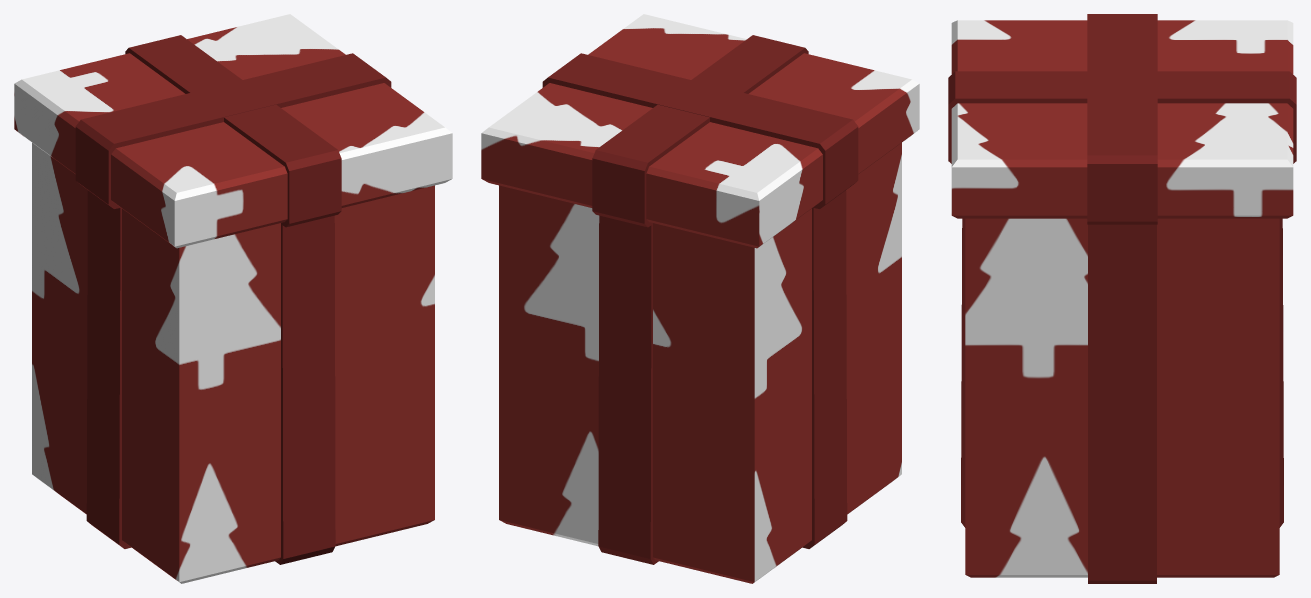
Rendered from PresentBox_SquareTall_01.fbx.
The picture shows the model from 3 angles, left to right: view 1: azimuth 30°, elevation 25°; view 2: azimuth 150°, elevation 25°; view 3: azimuth 270°, elevation 25°; orthographic projection. The views are drawn at different scales.
Visible parts, largest first — view 1: PresentBox_SquareTall_01, PresentBox_SquareTall_01_Top; view 2: PresentBox_SquareTall_01, PresentBox_SquareTall_01_Top; view 3: PresentBox_SquareTall_01, PresentBox_SquareTall_01_Top.
Part boxes in pixels (x1=…): PresentBox_SquareTall_01: x1=32, y1=143, x2=434, y2=583; PresentBox_SquareTall_01_Top: x1=14, y1=14, x2=452, y2=248; PresentBox_SquareTall_01: x1=499, y1=143, x2=901, y2=583; PresentBox_SquareTall_01_Top: x1=481, y1=14, x2=919, y2=248; PresentBox_SquareTall_01: x1=961, y1=218, x2=1283, y2=583; PresentBox_SquareTall_01_Top: x1=948, y1=14, x2=1296, y2=224.
Bounding box in the file's own units: 0.253 × 0.3491 × 0.2538.
